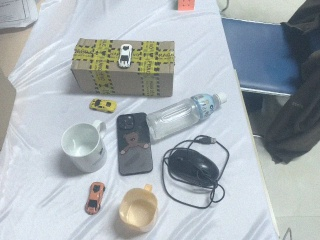bottle: (144, 91, 229, 141), (114, 112, 153, 177)
box: (71, 38, 176, 100), (1, 1, 43, 79), (1, 57, 18, 156)
cup: (60, 121, 107, 174), (116, 184, 159, 237)
mouse: (165, 145, 221, 190)
toy_car: (84, 182, 106, 215), (89, 98, 117, 114), (117, 44, 134, 69)
